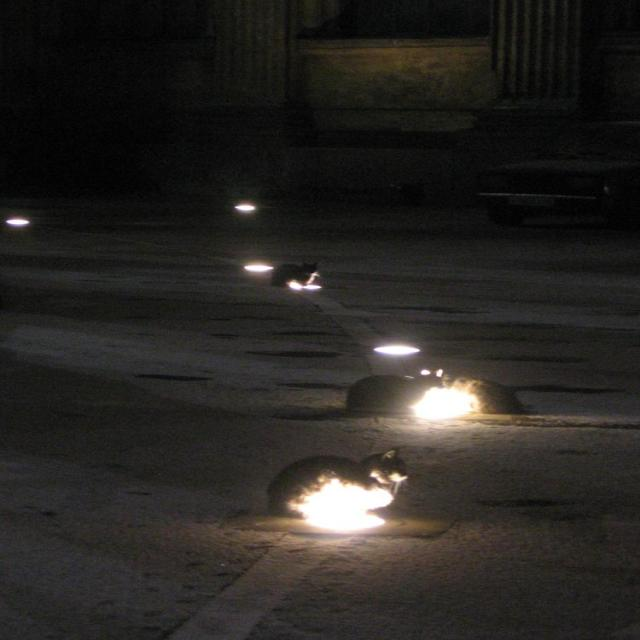Cat: (265, 447, 423, 532), (342, 360, 471, 407), (267, 254, 334, 289)
car: (461, 107, 640, 256)
